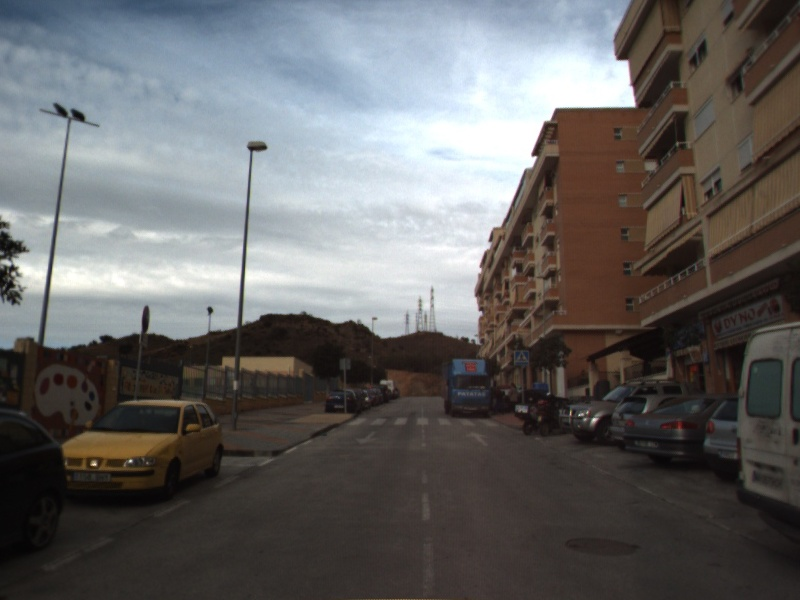STRAIGHT: (463, 430, 490, 448)
